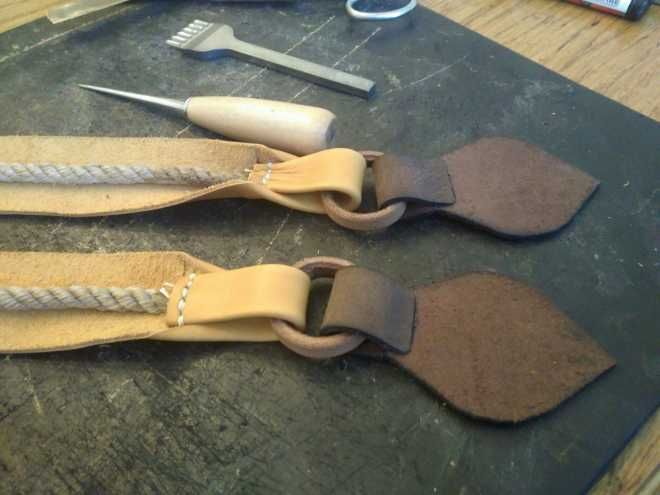cuero: (1, 132, 619, 426)
